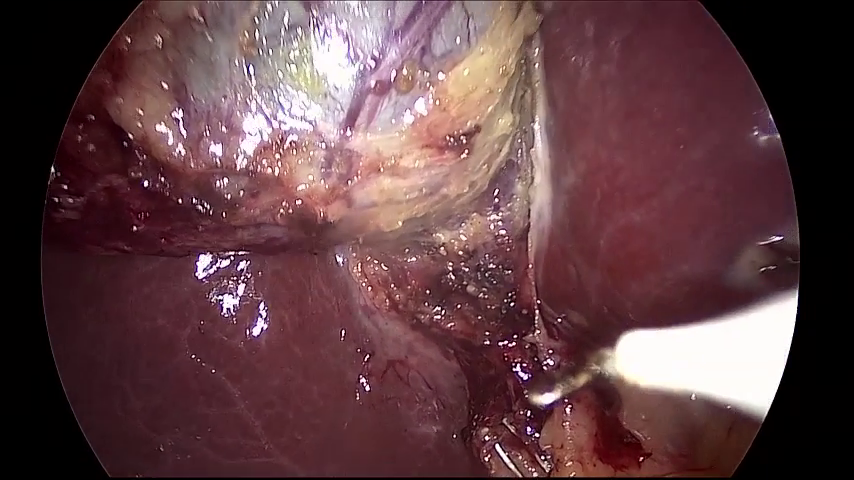lhook: (526, 290, 798, 415)
